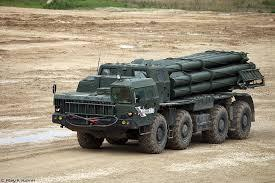MIL_SAM_TEL: (54, 46, 258, 155)
